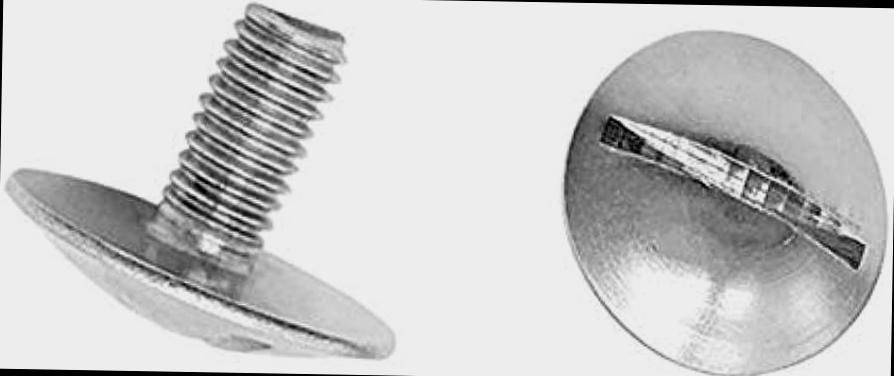screw: (555, 26, 890, 376)
